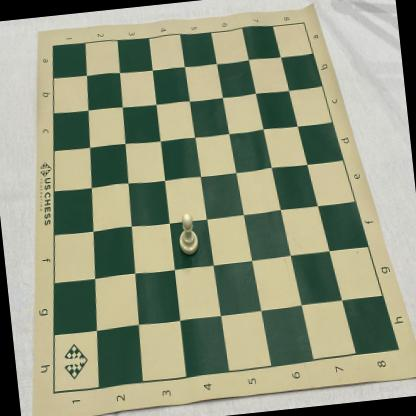pawn: (175, 210, 200, 256)
